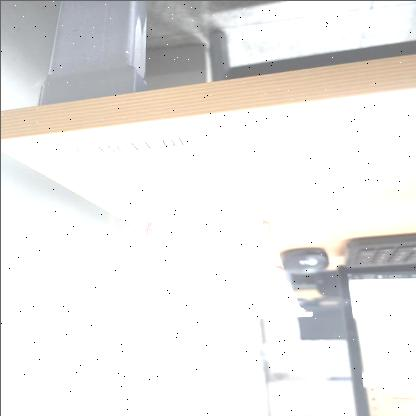Others: (110, 159, 314, 323)
